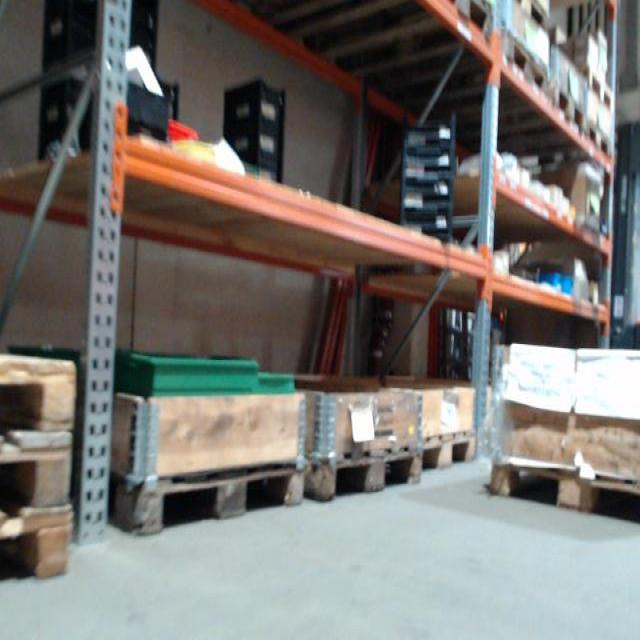pallet: (106, 455, 306, 540), (298, 5, 500, 63), (492, 458, 640, 522), (304, 440, 421, 510), (2, 514, 76, 605), (2, 433, 78, 514), (3, 353, 78, 433), (496, 37, 545, 109), (574, 59, 619, 121), (420, 429, 476, 473), (501, 2, 556, 36), (550, 87, 582, 141), (584, 123, 614, 163)
